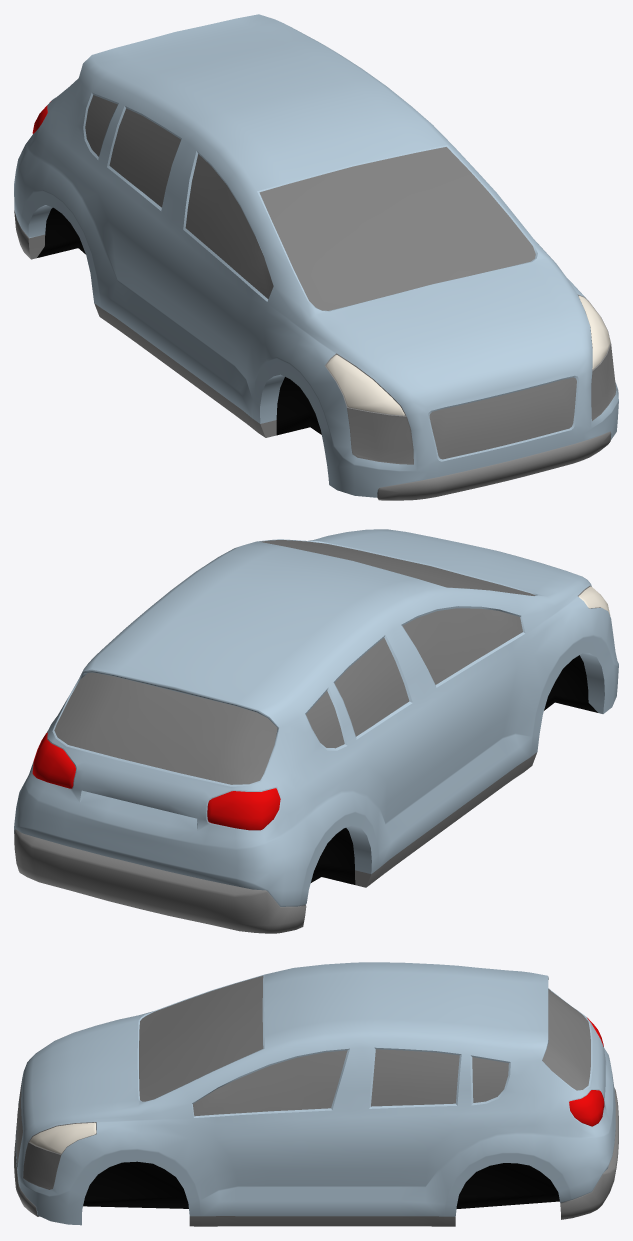
The model's file is FamilyCarChassis.fbx.
3 renders of one model, top to bottom at view 1: azimuth 30°, elevation 25°; view 2: azimuth 150°, elevation 25°; view 3: azimuth 270°, elevation 25°, orthographic. The views are drawn at different scales.
Parts seen in each view (by area): view 1: FamilyCar; view 2: FamilyCar; view 3: FamilyCar.
Boxes of the visible parts, x1,y1,x2,y2 form: FamilyCar: (14, 14, 618, 500); FamilyCar: (14, 529, 618, 933); FamilyCar: (14, 962, 618, 1226).
Size of the model in its own units: 189 by 144 by 437.
